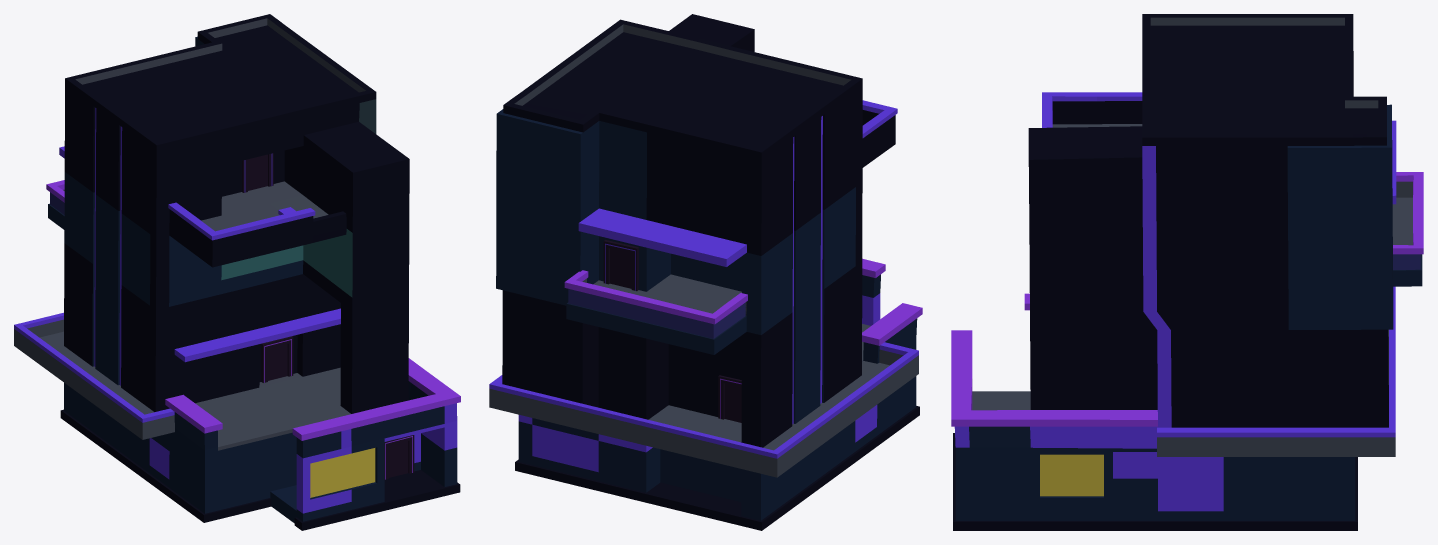
The model's file is Building_Apartment07.fbx.
3 views of the same model, side by side, from view 1: azimuth 30°, elevation 25°; view 2: azimuth 150°, elevation 25°; view 3: azimuth 270°, elevation 25° (orthographic). The views are drawn at different scales.
Visible parts, largest first — view 1: Cube.111; view 2: Cube.111; view 3: Cube.111.
Part boxes in pixels (<box>): Cube.111: <box>14,14,460,530</box>; Cube.111: <box>489,14,922,530</box>; Cube.111: <box>951,14,1423,530</box>.
Bounding box in the file's own units: 1091 × 1363 × 1485.
